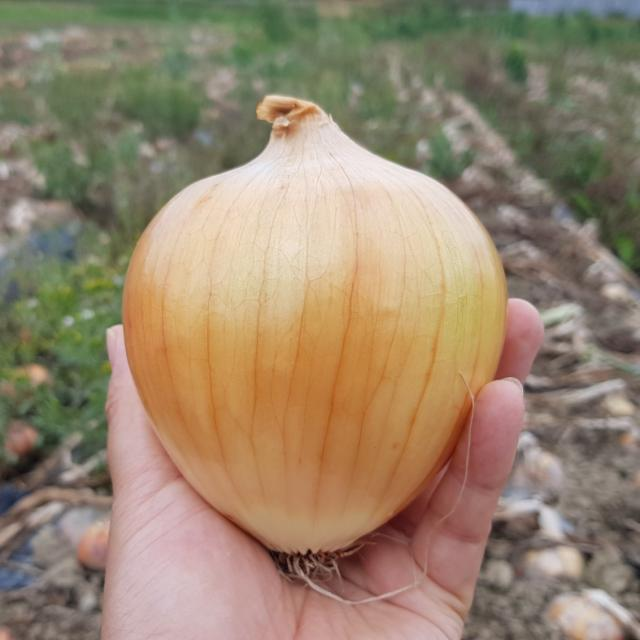onion: (118, 92, 510, 589)
